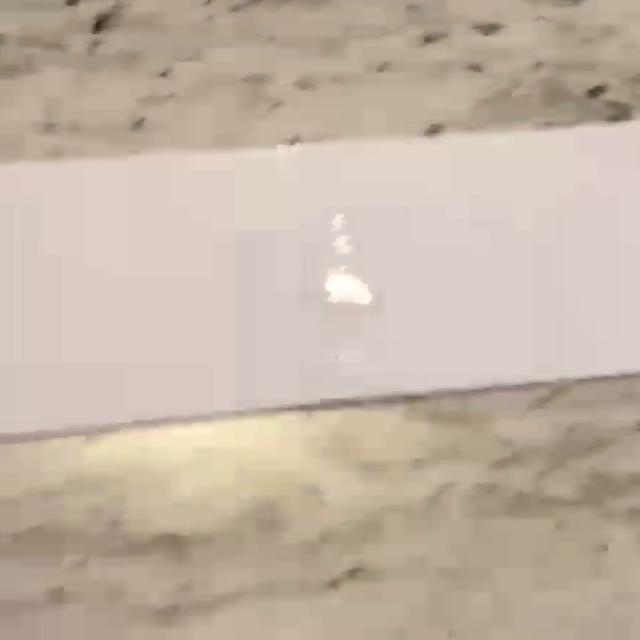road: (3, 122, 640, 432)
